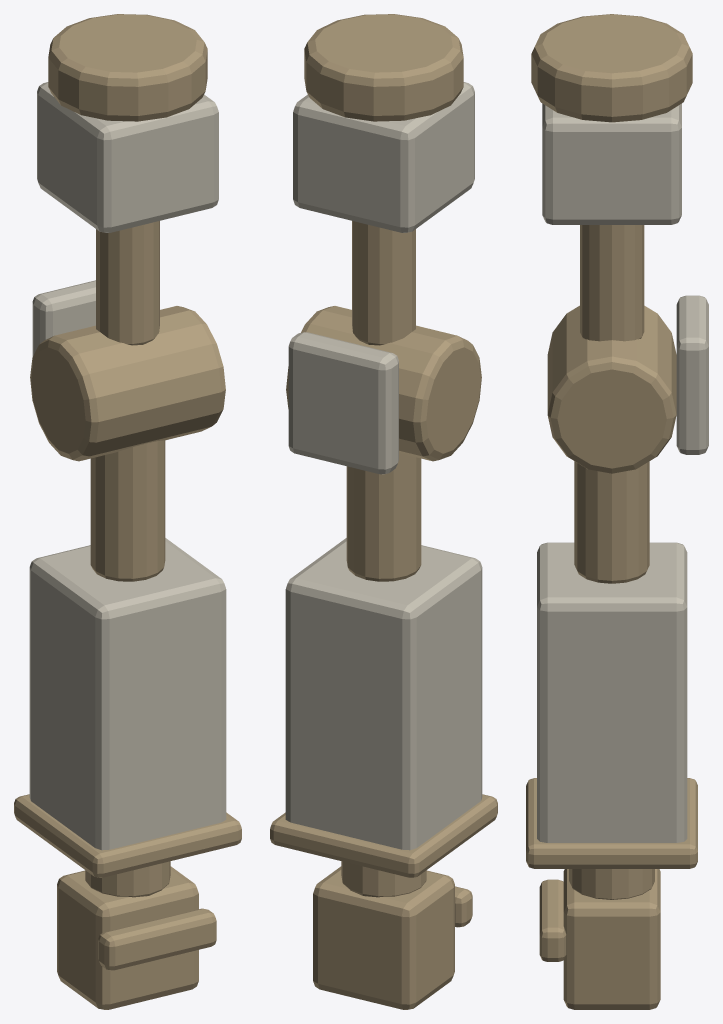
File: Arm.glb
The picture shows the model from 3 angles, left to right: view 1: azimuth 30°, elevation 25°; view 2: azimuth 150°, elevation 25°; view 3: azimuth 270°, elevation 25°; orthographic projection.
Visible parts, largest first — view 1: Arm_Forearm.002, PART_Arm.002; view 2: Arm_Forearm.002, PART_Arm.002; view 3: Arm_Forearm.002, PART_Arm.002.
Boxes of the visible parts, box(x1,y1,x2,y2) form: Arm_Forearm.002: box(14, 440, 241, 1009); PART_Arm.002: box(30, 14, 225, 461); Arm_Forearm.002: box(270, 453, 497, 1009); PART_Arm.002: box(286, 14, 481, 474); Arm_Forearm.002: box(526, 461, 697, 1009); PART_Arm.002: box(531, 14, 708, 473).
Bounding box in the file's own units: 0.32 × 1.94 × 0.34.
